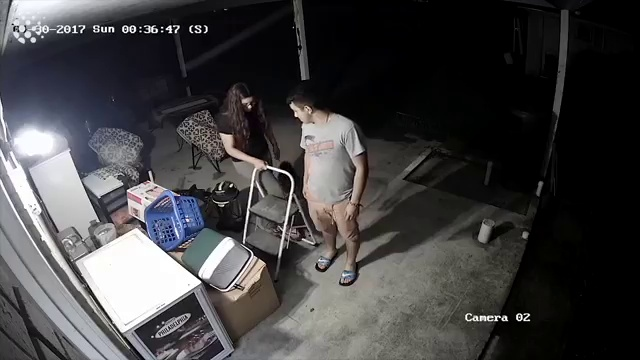face: (292, 99, 311, 122), (237, 97, 254, 113)
